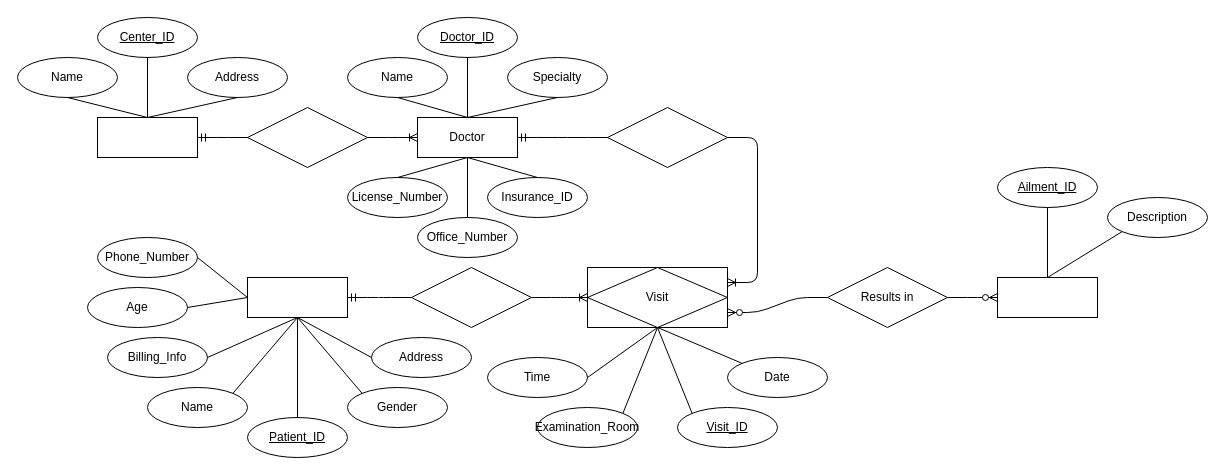
Image size: 1225x475. Some labels were removed from this diagram. Each missing label, with the box of its shape:
Attends: (410, 266, 532, 328)
Conducts: (606, 106, 728, 168)
Diagnosis: (996, 276, 1098, 318)
Employs: (246, 106, 368, 168)
Medical Center: (96, 116, 198, 158)
Patient: (246, 276, 348, 318)
